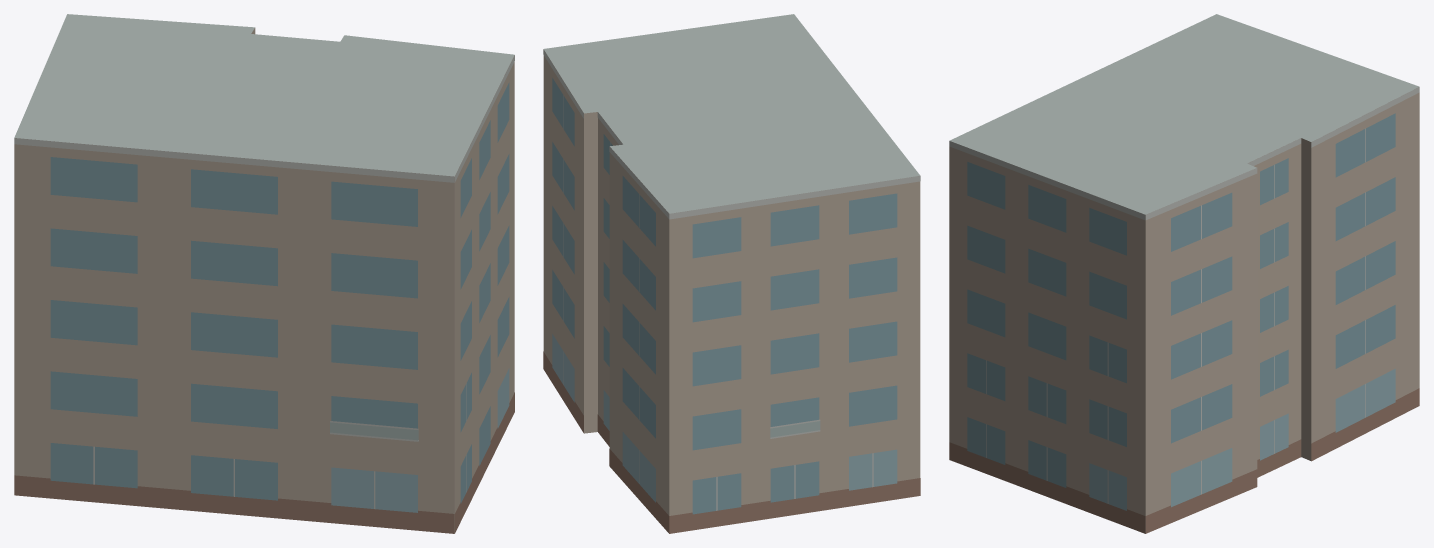
File: survey-upis-32859756.glb
The picture shows the model from 3 angles, left to right: view 1: azimuth 30°, elevation 25°; view 2: azimuth 150°, elevation 25°; view 3: azimuth 270°, elevation 25°; orthographic projection. The views are drawn at different scales.
Visible parts, largest first — view 1: survey-upis-32859756.tmp; view 2: survey-upis-32859756.tmp; view 3: survey-upis-32859756.tmp.
Part boxes in pixels (bbox=[...]): survey-upis-32859756.tmp: bbox=[14, 14, 514, 533]; survey-upis-32859756.tmp: bbox=[543, 14, 920, 533]; survey-upis-32859756.tmp: bbox=[949, 14, 1419, 533].
Size of the model in its own units: 18.49 by 13.7 by 18.31.
